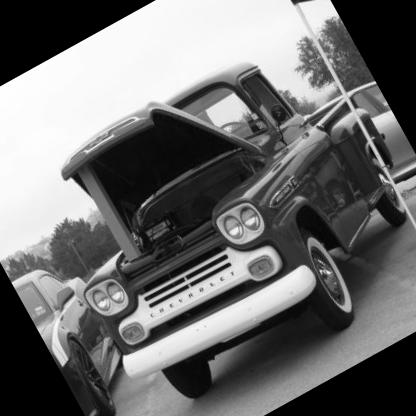truck: (18, 8, 416, 416)
